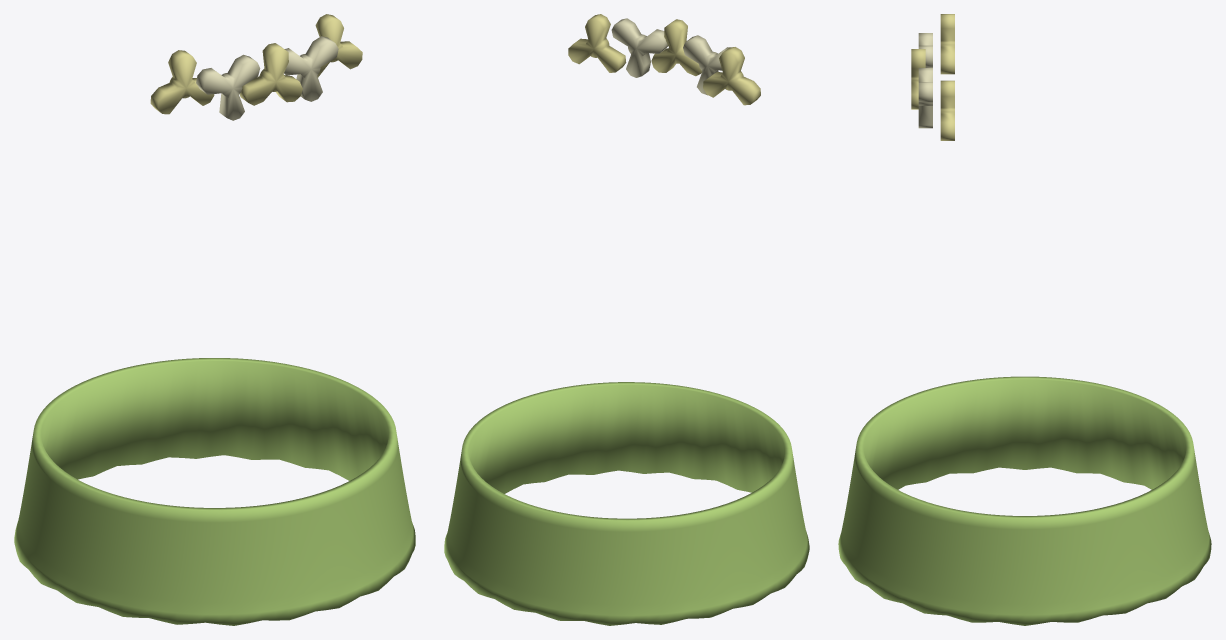
File: island_usagi.glb
3 views of the same model, side by side, from view 1: azimuth 30°, elevation 25°; view 2: azimuth 150°, elevation 25°; view 3: azimuth 270°, elevation 25° (orthographic). The views are drawn at different scales.
Visible parts, largest first — view 1: island_usagi; view 2: island_usagi; view 3: island_usagi.
Boxes of the visible parts, x1,y1,x2,y2 form: island_usagi: [14, 14, 415, 625]; island_usagi: [444, 14, 809, 625]; island_usagi: [838, 14, 1211, 625].
Size of the model in its own units: 0.6143 by 0.9061 by 0.6143.
